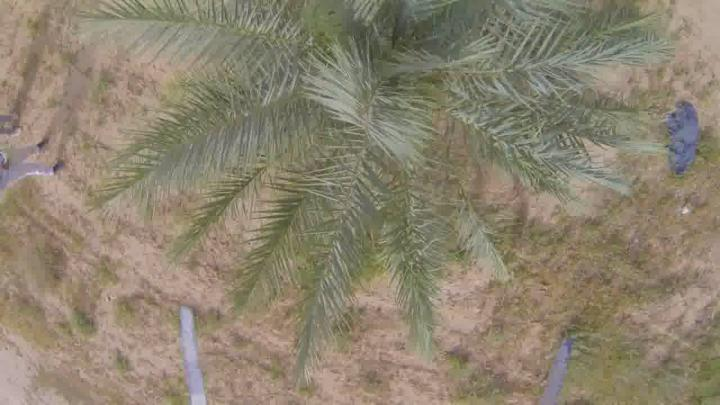Date-Palm-Crown: (204, 0, 550, 218)
